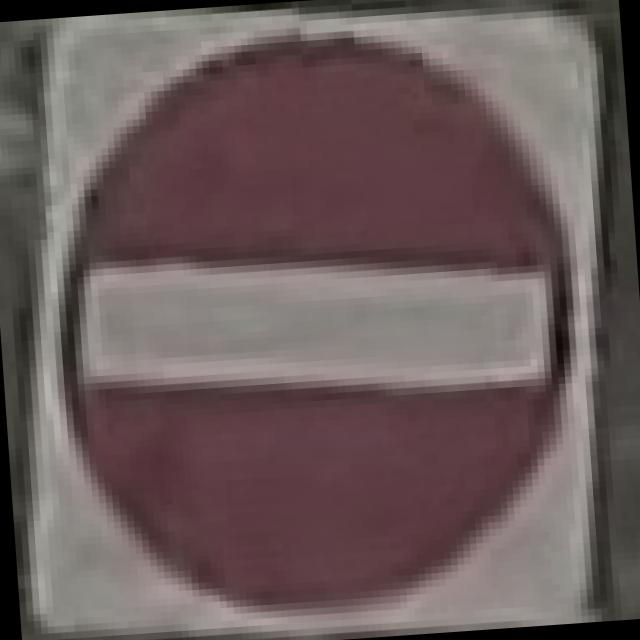noentry_sign: (34, 9, 593, 624)
